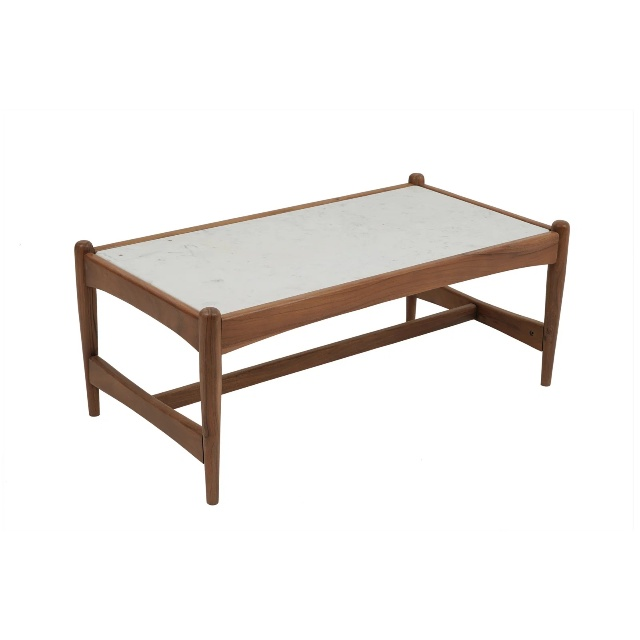obstacle: (75, 173, 569, 504)
